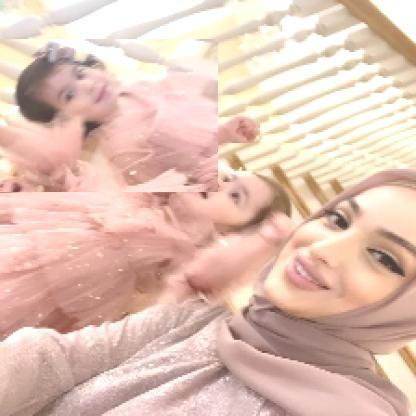child: (1, 113, 297, 337), (1, 40, 220, 194)
